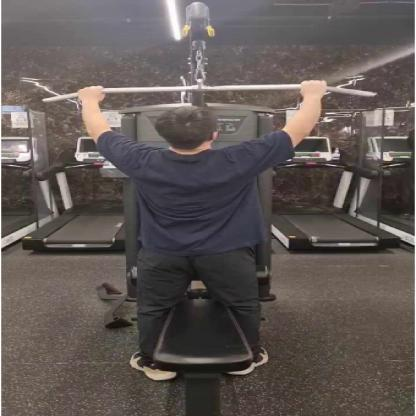Lat Pull Down: (26, 0, 389, 416)
